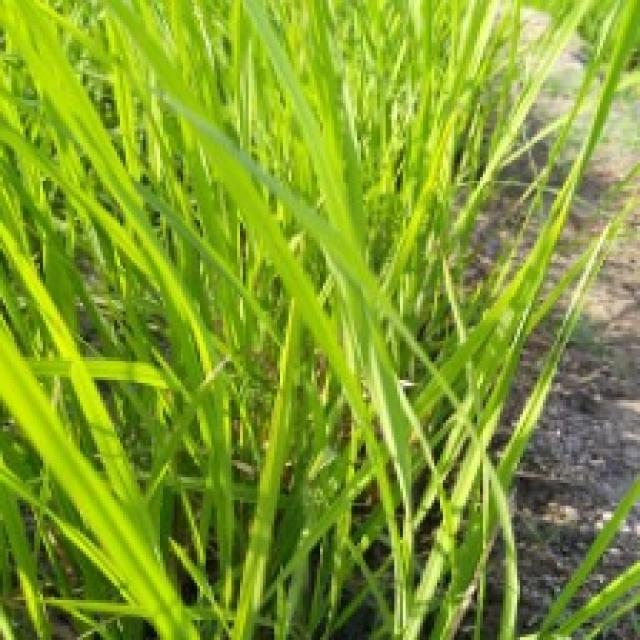Healthy-Plant: (0, 0, 534, 640)
